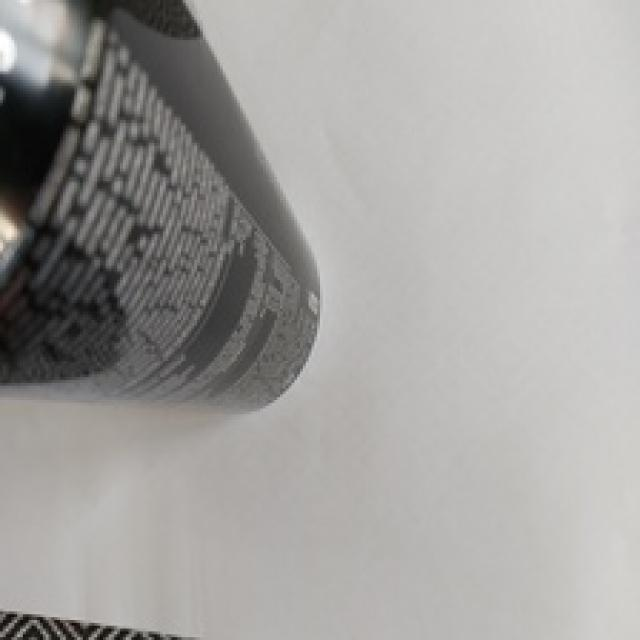recyclable: (0, 0, 320, 417)
